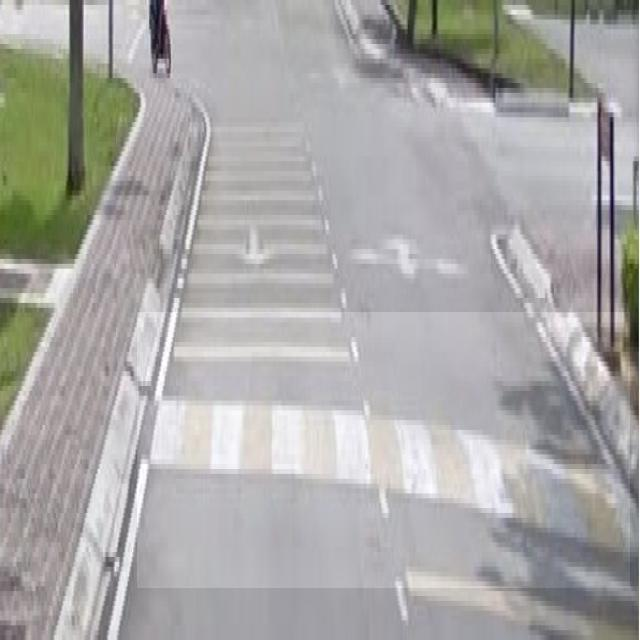speed-bump: (137, 312, 630, 588)
